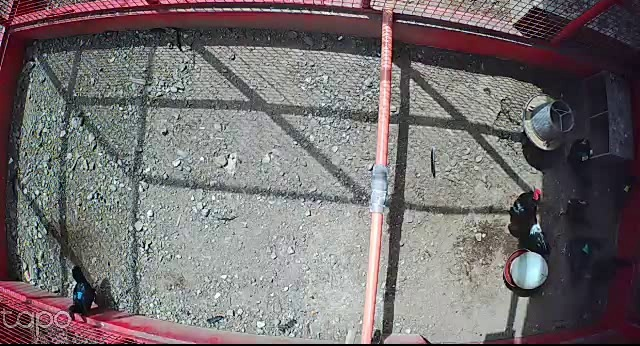Chicken: (584, 252, 634, 300), (607, 167, 640, 233), (565, 135, 599, 196), (558, 235, 603, 280), (64, 264, 97, 323), (552, 195, 599, 225)
Drinker: (496, 245, 551, 292)
Feeder: (524, 93, 574, 152)
Rooster: (502, 186, 556, 254)
Saddle_Color_Blue: (76, 291, 83, 300)
Saddle_Color_Yellow: (624, 183, 629, 191)
